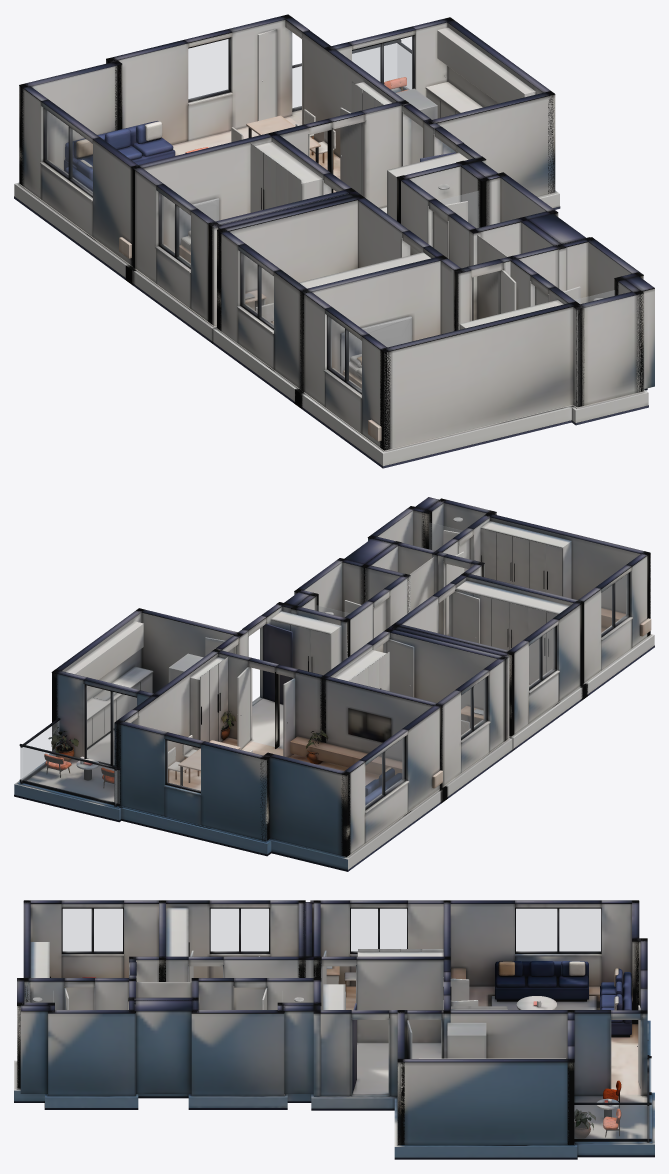
The picture shows the model from 3 angles, top to bottom: view 1: azimuth 30°, elevation 25°; view 2: azimuth 150°, elevation 25°; view 3: azimuth 270°, elevation 25°; orthographic projection. The views are drawn at different scales.
Visible parts, largest first — view 1: plan, glass1_m, glass5_m, glass0_m, glass4_m, glass3_m, railg0_m, glass2_m; view 2: plan, railg0_m, glass5_m, glass1_m, glass0_m, glass4_m, glass3_m, railg5_m, glass2_m; view 3: plan, glass1_m, railg5_m, glass4_m, glass3_m, glass2_m.
Boxes of the visible parts, <box> form: plan: <box>14,14,654,468</box>; glass1_m: <box>45,110,92,194</box>; glass5_m: <box>352,36,412,92</box>; glass0_m: <box>188,39,228,99</box>; glass4_m: <box>329,317,361,391</box>; glass3_m: <box>242,254,273,326</box>; railg0_m: <box>292,43,396,108</box>; glass2_m: <box>160,194,190,265</box>; plan: <box>14,497,654,871</box>; railg0_m: <box>20,747,119,803</box>; glass5_m: <box>86,685,136,765</box>; glass1_m: <box>365,737,404,807</box>; glass0_m: <box>167,741,200,790</box>; glass4_m: <box>601,573,628,634</box>; glass3_m: <box>529,627,554,687</box>; railg5_m: <box>21,721,59,781</box>; glass2_m: <box>461,678,485,737</box>; plan: <box>14,900,654,1159</box>; glass1_m: <box>516,909,600,951</box>; railg5_m: <box>574,1105,651,1138</box>; glass4_m: <box>63,909,122,951</box>; glass3_m: <box>211,909,268,951</box>; glass2_m: <box>351,909,406,951</box>.
Size of the model in its own units: 9.61 by 2.62 by 15.84.
2 materials, 1 textured.
